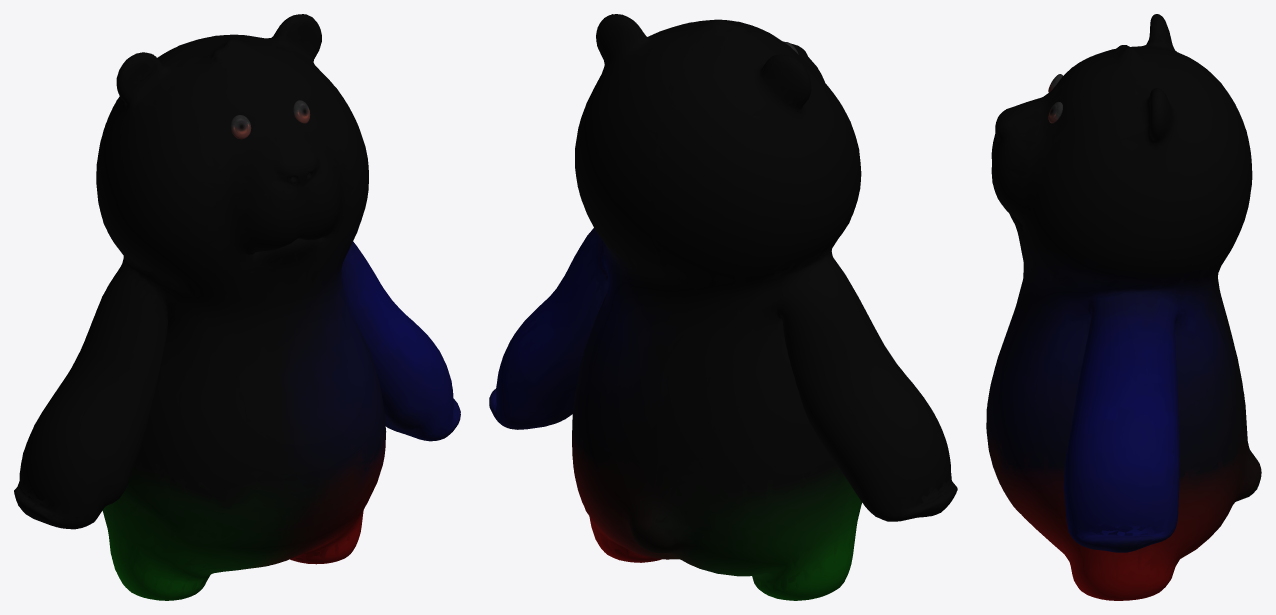
File: bear_shell_v1.glb
3 renders of one model, left to right at view 1: azimuth 30°, elevation 25°; view 2: azimuth 150°, elevation 25°; view 3: azimuth 270°, elevation 25°, orthographic. The views are drawn at different scales.
Visible parts, largest first — view 1: Body, BoundedShellGroom, BrownBear_Normal; view 2: Body, BoundedShellGroom; view 3: Body, BoundedShellGroom.
Part boxes in pixels (x1=…): Body: x1=14, y1=14, x2=460, y2=600; BoundedShellGroom: x1=14, y1=14, x2=460, y2=600; BrownBear_Normal: x1=230, y1=100, x2=310, y2=139; Body: x1=489, y1=14, x2=957, y2=600; BoundedShellGroom: x1=489, y1=14, x2=957, y2=600; Body: x1=986, y1=14, x2=1261, y2=600; BoundedShellGroom: x1=986, y1=14, x2=1261, y2=600.
Bounding box in the file's own units: 2.11 × 2.44 × 1.21.
3 materials, 3 textured.
